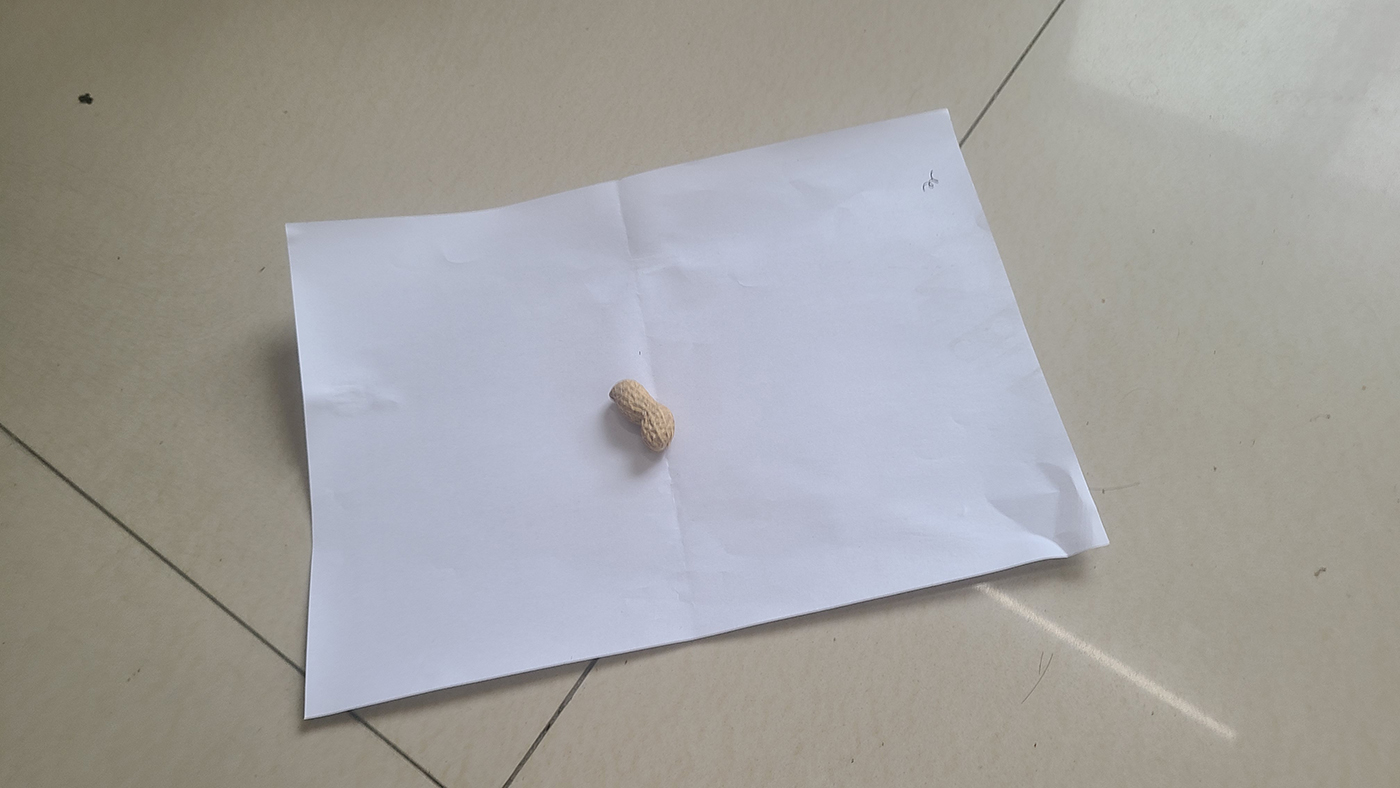h: (609, 376, 679, 458)
